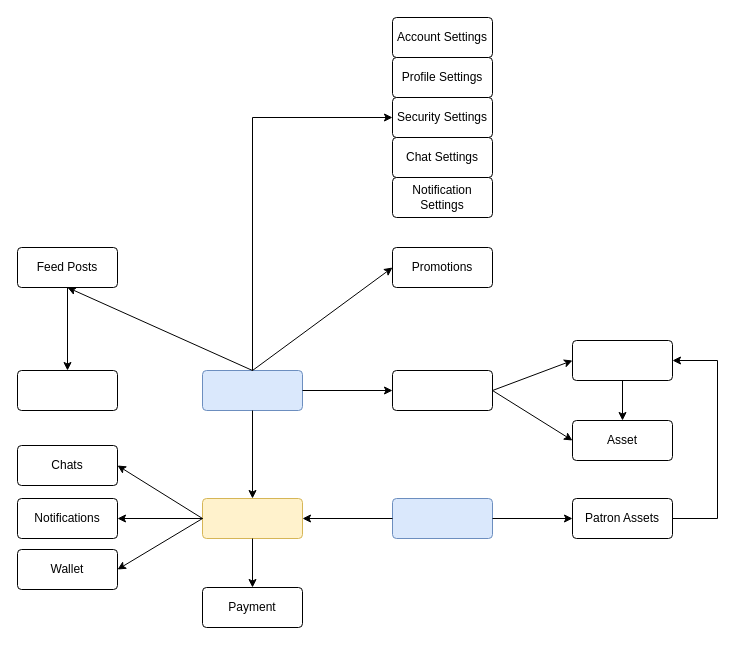
Some shapes in this 743 by 645 pixel diagram are drawn without their labels. Each missing label, with the centre of its shape:
"Asset Package" goes at [622,360].
"Creator" goes at [252,390].
"Feed <Computed>" goes at [67,390].
"Patron" goes at [442,518].
"User Account" goes at [252,518].
"Vault" goes at [442,390].
